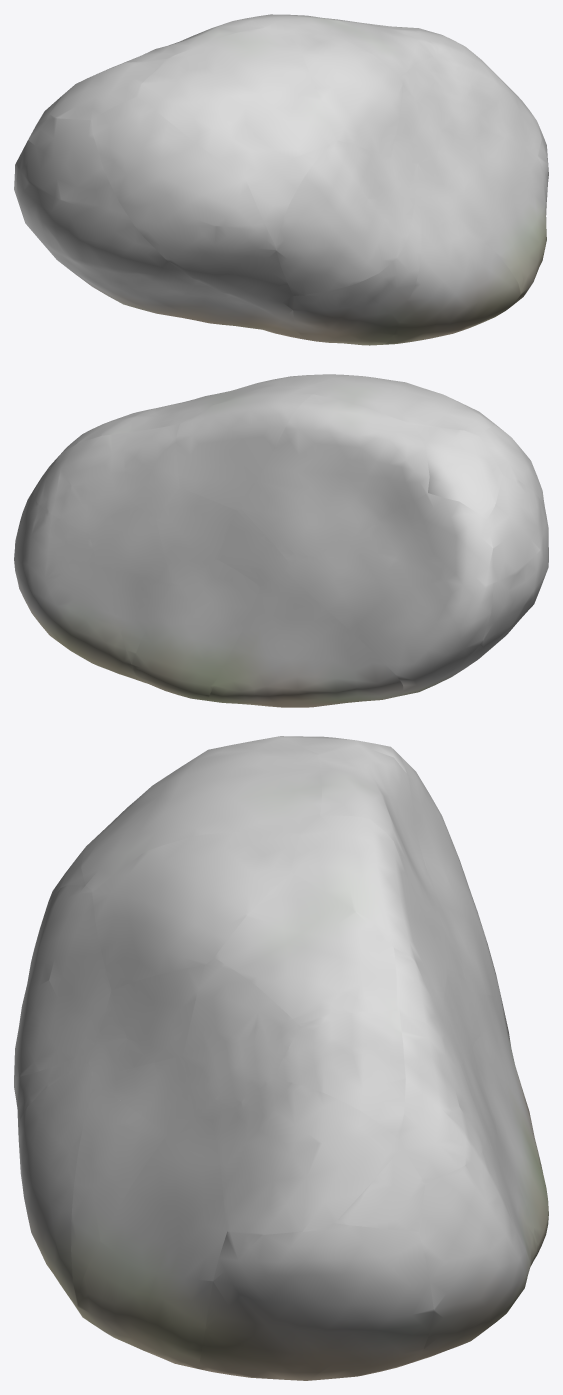
File: rock_v3.glb
3 renders of one model, top to bottom at view 1: azimuth 30°, elevation 25°; view 2: azimuth 150°, elevation 25°; view 3: azimuth 270°, elevation 25°, orthographic. The views are drawn at different scales.
Visible parts, largest first — view 1: Chunk_12, Chunk_04, Chunk_25, Chunk_15, Chunk_02, Chunk_28, Chunk_07, Chunk_05, Chunk_26, Chunk_10, Chunk_13, Chunk_17 (+8 smaller); view 2: Chunk_09, Chunk_22, Chunk_01, Chunk_03, Chunk_06, Chunk_27, Chunk_04, Chunk_11, Chunk_16, Chunk_25, Chunk_17, Chunk_19 (+6 smaller); view 3: Chunk_00, Chunk_05, Chunk_28, Chunk_13, Chunk_25, Chunk_29, Chunk_03, Chunk_15, Chunk_27, Chunk_26, Chunk_21, Chunk_02 (+15 smaller).
Part boxes in pixels (x1,y1,x2,y2): Chunk_12: (91, 96, 295, 326); Chunk_04: (16, 118, 304, 339); Chunk_25: (138, 28, 335, 178); Chunk_15: (275, 140, 415, 295); Chunk_02: (385, 196, 520, 344); Chunk_28: (288, 31, 402, 157); Chunk_07: (293, 193, 421, 345); Chunk_05: (475, 131, 547, 304); Chunk_26: (399, 54, 481, 140); Chunk_10: (434, 164, 522, 292); Chunk_13: (469, 55, 541, 156); Chunk_17: (46, 58, 165, 120); Chunk_09: (286, 493, 493, 696); Chunk_22: (241, 394, 429, 561); Chunk_01: (207, 571, 403, 707); Chunk_03: (14, 494, 146, 683); Chunk_06: (132, 559, 259, 700); Chunk_27: (176, 385, 312, 510); Chunk_04: (419, 475, 548, 691); Chunk_11: (89, 500, 172, 664); Chunk_16: (34, 433, 128, 533); Chunk_25: (302, 375, 496, 434); Chunk_17: (412, 424, 502, 519); Chunk_19: (156, 487, 236, 582); Chunk_00: (198, 1223, 433, 1380); Chunk_05: (78, 1116, 227, 1368); Chunk_28: (92, 832, 300, 990); Chunk_13: (212, 1079, 401, 1234); Chunk_25: (81, 736, 321, 890); Chunk_29: (214, 873, 396, 1026); Chunk_03: (407, 1139, 537, 1364); Chunk_15: (14, 884, 111, 1076); Chunk_27: (291, 815, 447, 1003); Chunk_26: (183, 958, 300, 1121); Chunk_21: (273, 1010, 405, 1139); Chunk_02: (18, 1062, 94, 1321).
Bounding box in the file's own units: 3.87 × 2.06 × 2.47.
